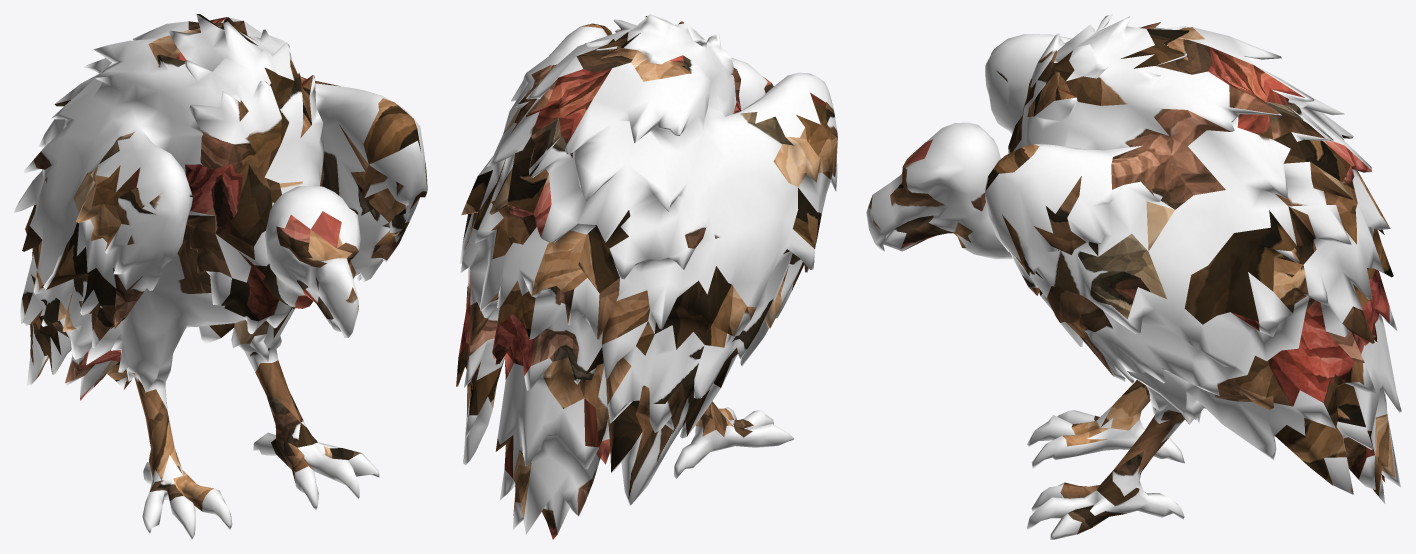
File: carrion_vulture_basic_5k.fbx
The picture shows the model from 3 angles, left to right: view 1: azimuth 30°, elevation 25°; view 2: azimuth 150°, elevation 25°; view 3: azimuth 270°, elevation 25°; orthographic projection. The views are drawn at different scales.
Visible parts, largest first — view 1: carrion_vulture_basic_decimated; view 2: carrion_vulture_basic_decimated; view 3: carrion_vulture_basic_decimated.
Boxes of the visible parts, left/top/right/bottom form: carrion_vulture_basic_decimated: left=14, top=14, right=427, bottom=539; carrion_vulture_basic_decimated: left=456, top=14, right=837, bottom=539; carrion_vulture_basic_decimated: left=866, top=14, right=1401, bottom=539.
Size of the model in its own units: 1.46 by 1.86 by 1.9.
